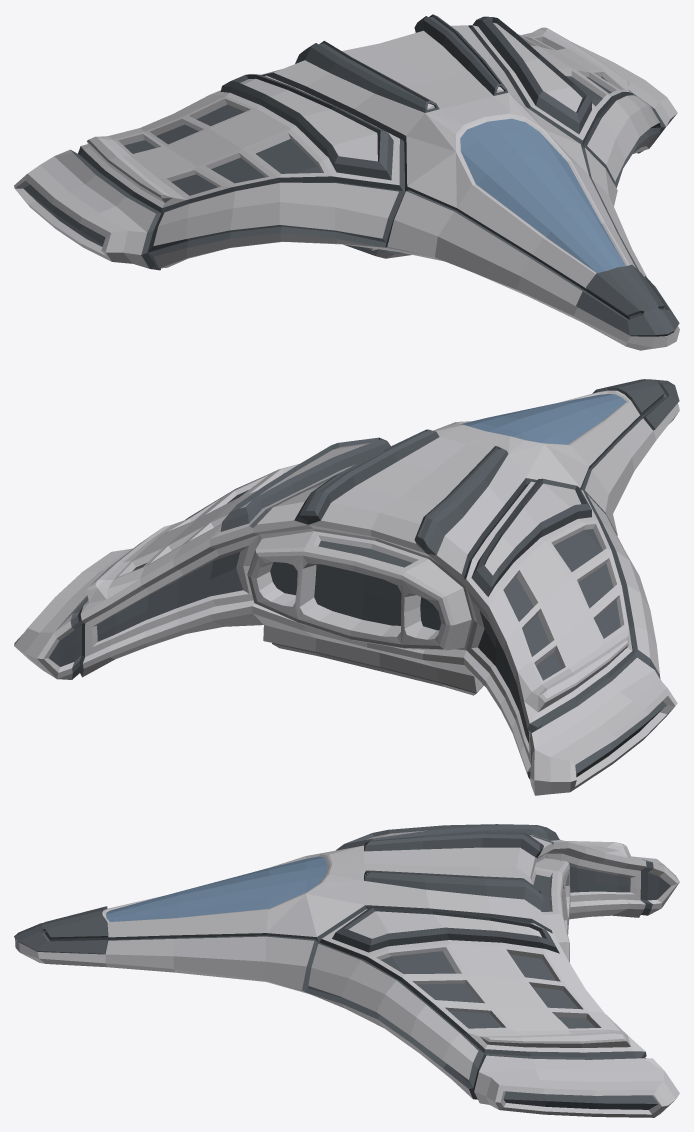
File: Fighter_09_Body.fbx
The picture shows the model from 3 angles, top to bottom: view 1: azimuth 30°, elevation 25°; view 2: azimuth 150°, elevation 25°; view 3: azimuth 270°, elevation 25°; orthographic projection. The views are drawn at different scales.
Parts seen in each view (by area): view 1: Fighter_09_Body; view 2: Fighter_09_Body; view 3: Fighter_09_Body.
Boxes of the visible parts, left/top/right/bottom form: Fighter_09_Body: left=14, top=14, right=679, bottom=350; Fighter_09_Body: left=14, top=379, right=679, bottom=795; Fighter_09_Body: left=14, top=824, right=679, bottom=1117.
Size of the model in its own units: 1089 by 331 by 1256.
2 materials, 2 textured.
